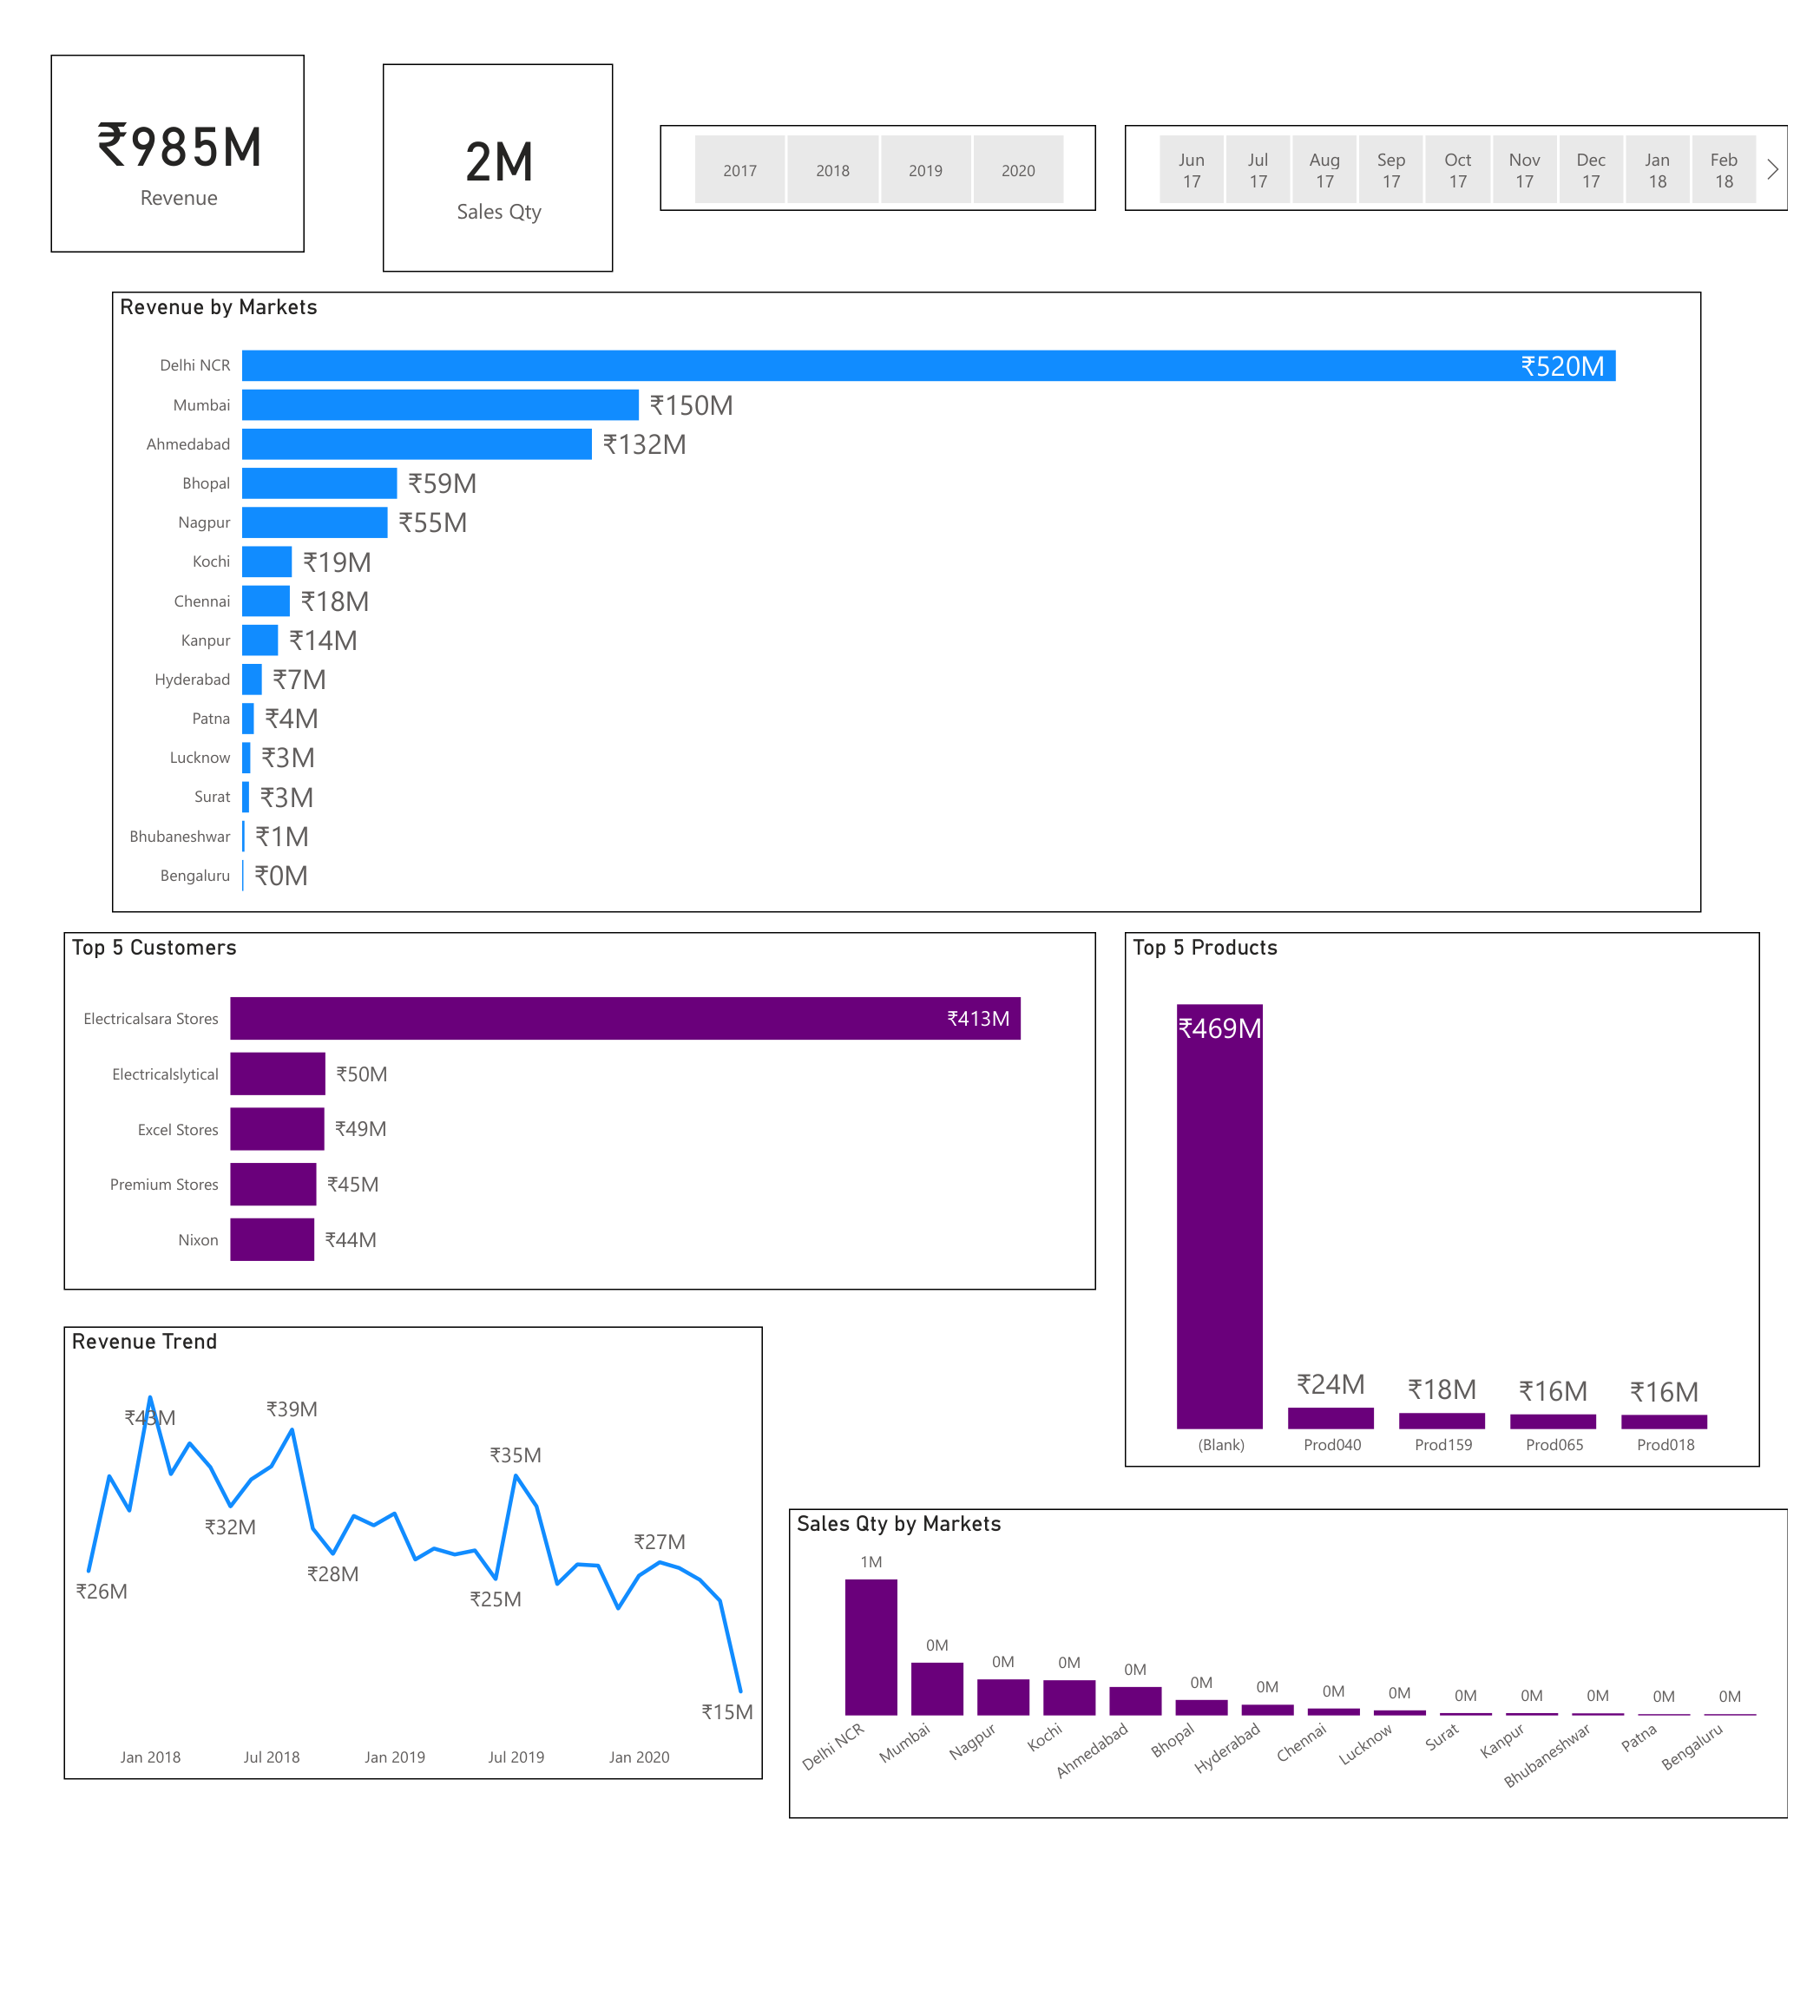

This screenshot's page, from the dashboard's own definition file:
{"tool":"powerbi","page":{"name":"Key Insights","canvas":[1350,1500],"ordinal":0},"visuals":[{"type":"card","fields":{"Values":["BaseMeasures (2).Revenue"]},"box":[15,18.3,195,151.7],"z":0},{"type":"card","fields":{"Values":["BaseMeasures (2).Sales Qty"]},"box":[270,25,176.7,160],"z":1000},{"type":"barChart","title":"Revenue by Markets","fields":{"Y":["BaseMeasures (2).Revenue"],"Category":["sales markets.markets_name"]},"box":[61.7,200,1221.7,476.7],"z":2000},{"type":"clusteredColumnChart","title":"Sales Qty by Markets","fields":{"Category":["sales markets.markets_name"],"Y":["BaseMeasures (2).Sales Qty"]},"box":[581.7,1135,768.3,238.3],"z":3000},{"type":"slicer","fields":{"Values":["sales date.year"]},"box":[483.3,71.7,335,66.7],"z":4000},{"type":"slicer","fields":{"Values":["sales date.cy_date"]},"box":[840,71.7,510,66.7],"z":5000},{"type":"barChart","title":"Top 5 Customers","fields":{"Y":["BaseMeasures (2).Revenue"],"Category":["sales customers.custmer_name"]},"box":[25,691.7,793.3,275],"z":6000},{"type":"columnChart","title":"Top 5 Products","fields":{"Category":["sales products.product_code"],"Y":["BaseMeasures (2).Revenue"]},"box":[840,691.7,488.3,411.7],"z":7000},{"type":"lineChart","title":"Revenue Trend","fields":{"Y":["BaseMeasures (2).Revenue"],"Category":["sales date.cy_date"]},"box":[25,995,536.7,348.3],"z":8000}]}

Visuals, with their boxes in screenshot pixels (x1, y1, x2, y2), scaled from the page's 1350x1500 canvas onto the 1820x2016 screenshot:
card - BaseMeasures (2).Revenue: region(20, 24, 283, 228)
card - BaseMeasures (2).Sales Qty: region(364, 34, 602, 249)
"Revenue by Markets" barChart: region(83, 269, 1731, 909)
"Sales Qty by Markets" clusteredColumnChart: region(785, 1526, 1819, 1846)
slicer - sales date.year: region(652, 96, 1103, 186)
slicer - sales date.cy_date: region(1133, 96, 1819, 186)
"Top 5 Customers" barChart: region(34, 929, 1103, 1299)
"Top 5 Products" columnChart: region(1133, 929, 1790, 1483)
"Revenue Trend" lineChart: region(34, 1337, 758, 1805)
